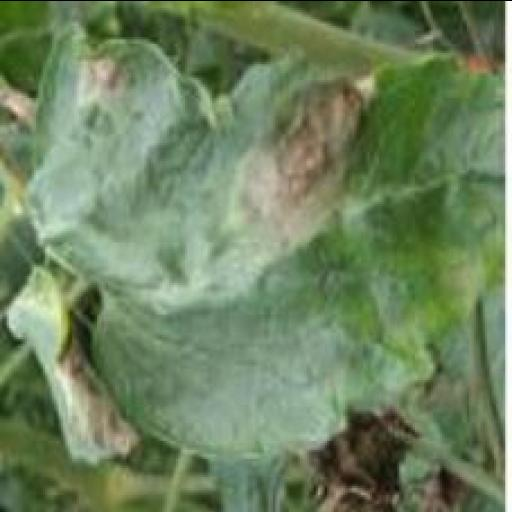Late Blight: (22, 25, 504, 460)
